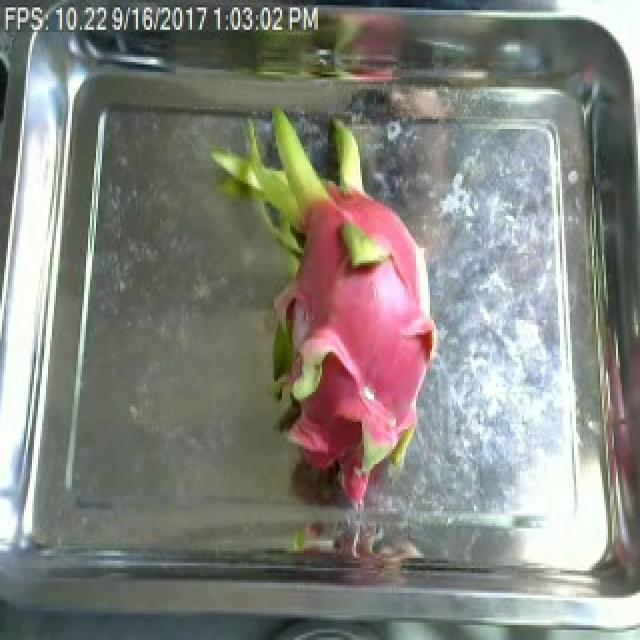fruit: (204, 99, 448, 509)
